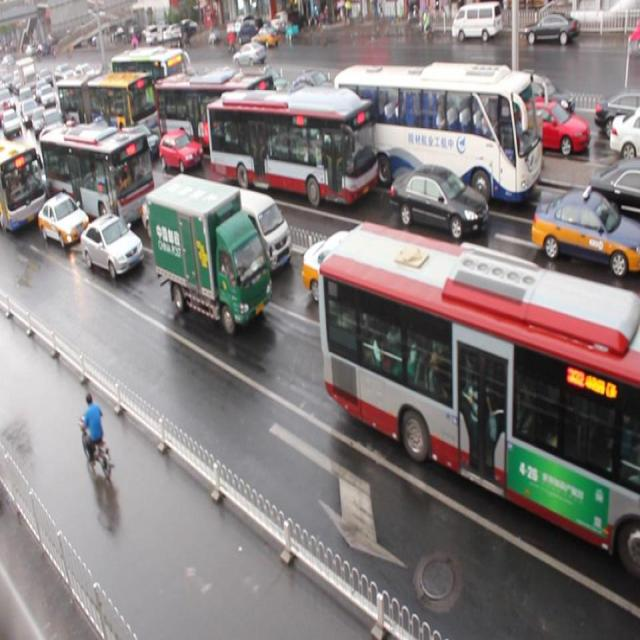bus: (147, 171, 272, 334)
car: (530, 186, 640, 274), (300, 228, 404, 321), (389, 163, 488, 239), (141, 185, 208, 250), (584, 155, 640, 228), (81, 212, 143, 276), (36, 187, 88, 243), (159, 128, 202, 172), (116, 123, 160, 164)
truck: (440, 240, 568, 386), (216, 186, 292, 276)
van: (318, 222, 640, 573), (334, 66, 541, 204), (205, 90, 377, 204), (38, 121, 156, 232), (154, 70, 274, 160), (58, 71, 158, 132), (1, 134, 46, 226)
